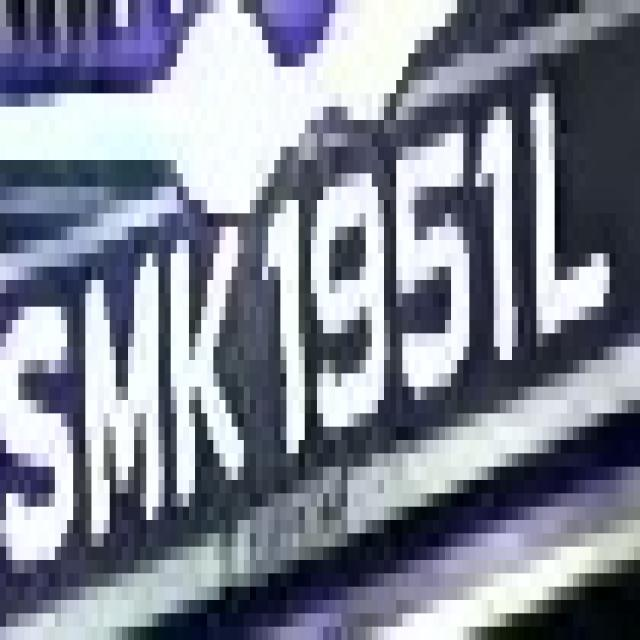1: (238, 173, 323, 480), (470, 107, 530, 360)
5: (378, 93, 481, 387)
9: (299, 134, 390, 454)
K: (158, 187, 238, 520)
L: (524, 40, 610, 360)
M: (73, 240, 159, 560)
S: (6, 240, 85, 560)
